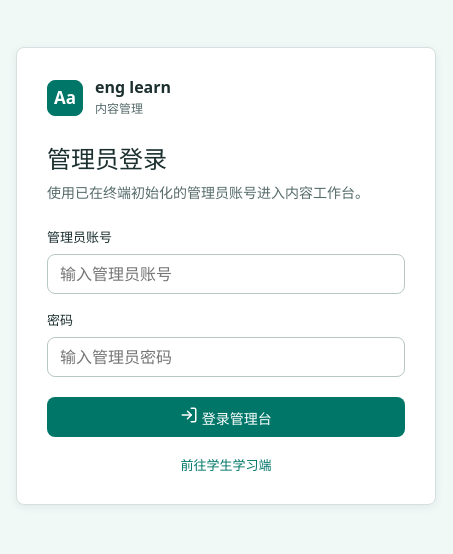
Test: AdminLoginPage › shows a recoverable login state for admin_not_configured
Type "admin@example.com" into the field named "username" at (226, 274), box [47,254,405,294]
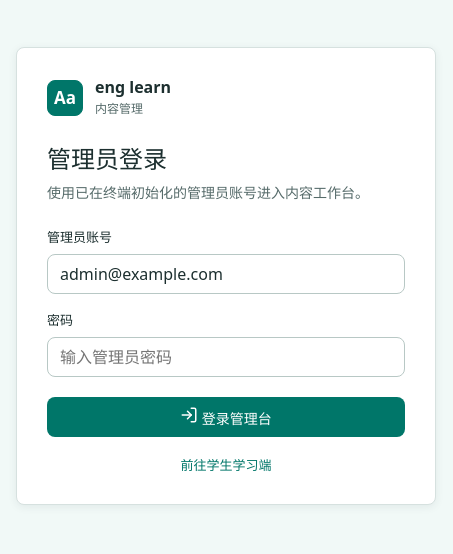
Type "not-a-real-password" into the password field named "password" at (226, 357), box [47,337,405,377]
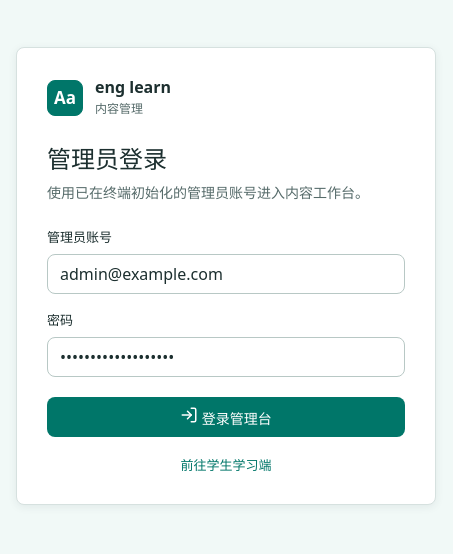
Submit the form, box [47,227,405,437]
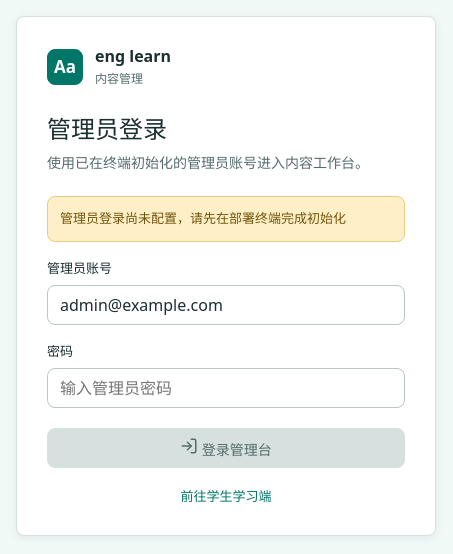
Expected: the message "管理员登录尚未配置，请先在部署终端完成初始化" is shown, [47,196,405,242]
